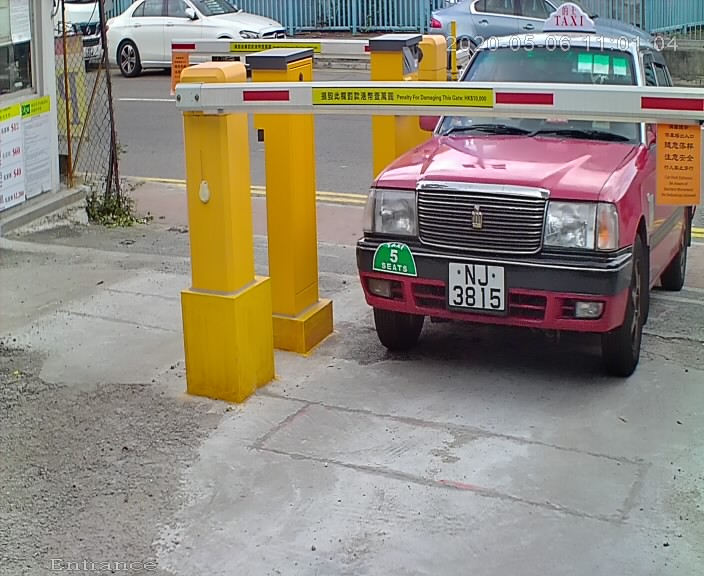taxi: (349, 2, 702, 370)
taxi_mark: (364, 234, 427, 289)
